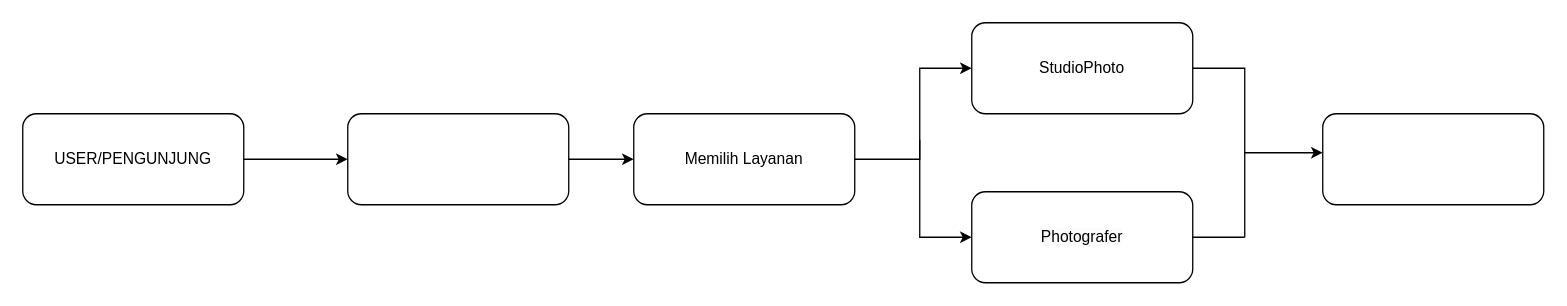
Image size: 1567x306. Some labels were removed from this diagram. The box of each missing label's shape, as (x1, y1, x2, y2) in pixels:
Layanan Whatsapp: (1321, 112, 1544, 205)
Membuka Landing Page: (346, 112, 569, 205)
